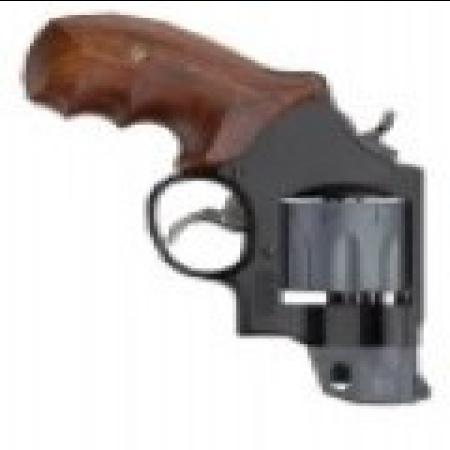Pistol: (34, 5, 435, 397)
